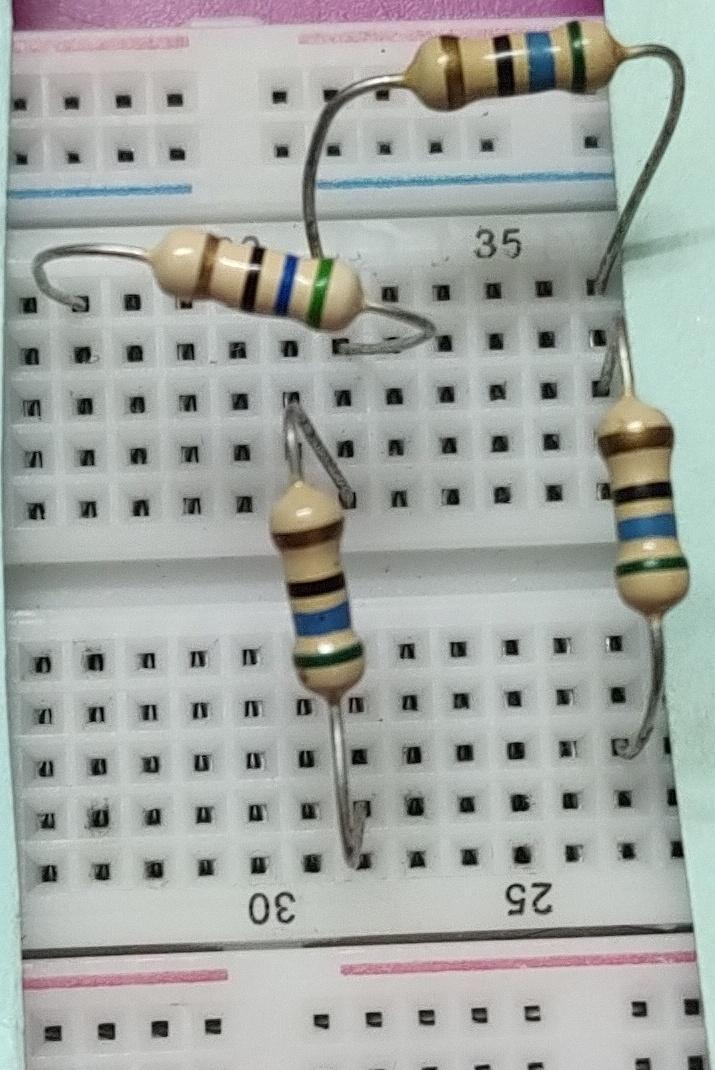resistor: (257, 471, 392, 721), (143, 217, 370, 352), (593, 387, 694, 633), (399, 19, 636, 116)
